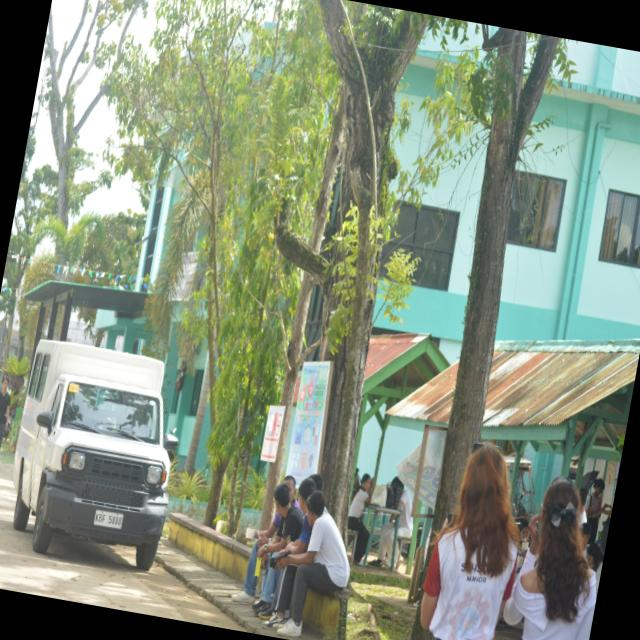person: (420, 444, 518, 639), (504, 477, 596, 639), (277, 491, 349, 637), (254, 483, 302, 618), (232, 512, 281, 608), (348, 474, 374, 564), (369, 516, 395, 568), (585, 479, 604, 543), (0, 376, 11, 448)
